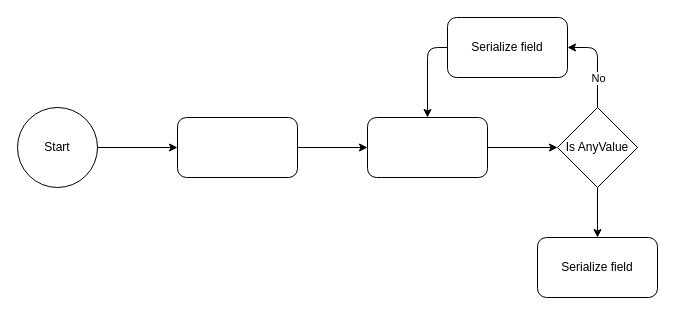
The diagram is 675 pixels wide and 315 high, and some of its shapes have lost their labels. Here are the shapes that lost their labels. From the top down, the centre of each, then its label:
At (x=237, y=147): "Create Empty Document".
At (x=427, y=147): "For field in obj".
